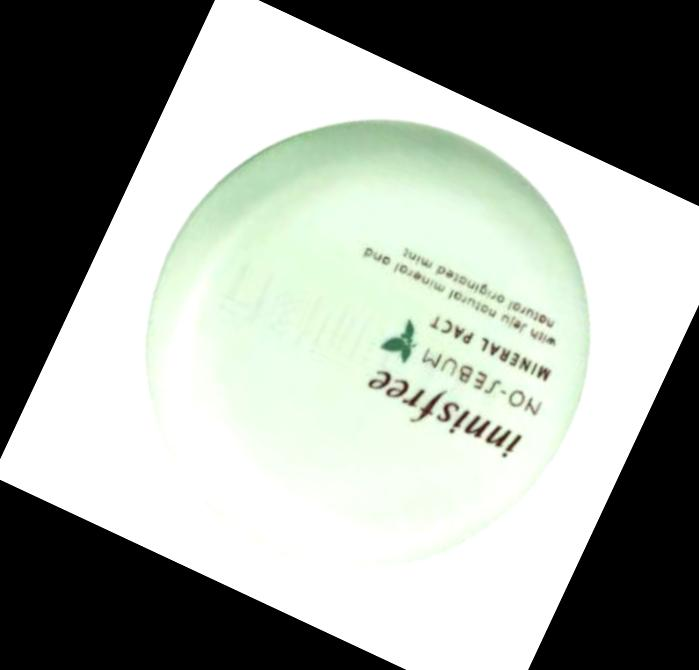cosmetic: (67, 39, 666, 645)
